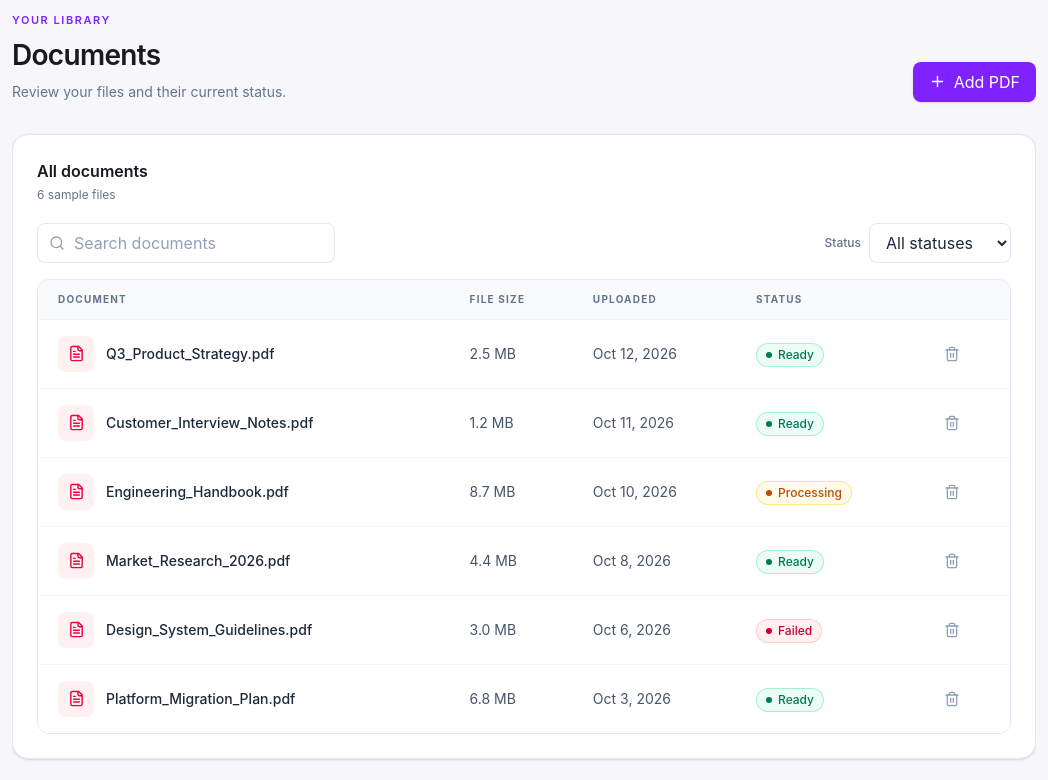
Scenario: DocumentList on DocumentsPage › exposes an accessible table and removal updates the visible list
expect the column heading "Document" is shown: met, box [38,280,454,319]
expect the column heading "File size" is shown: met, box [454,280,577,319]
Click the button named "Remove Q3_Product_Strategy.pdf from this session" at (952, 354), box [936,338,968,370]
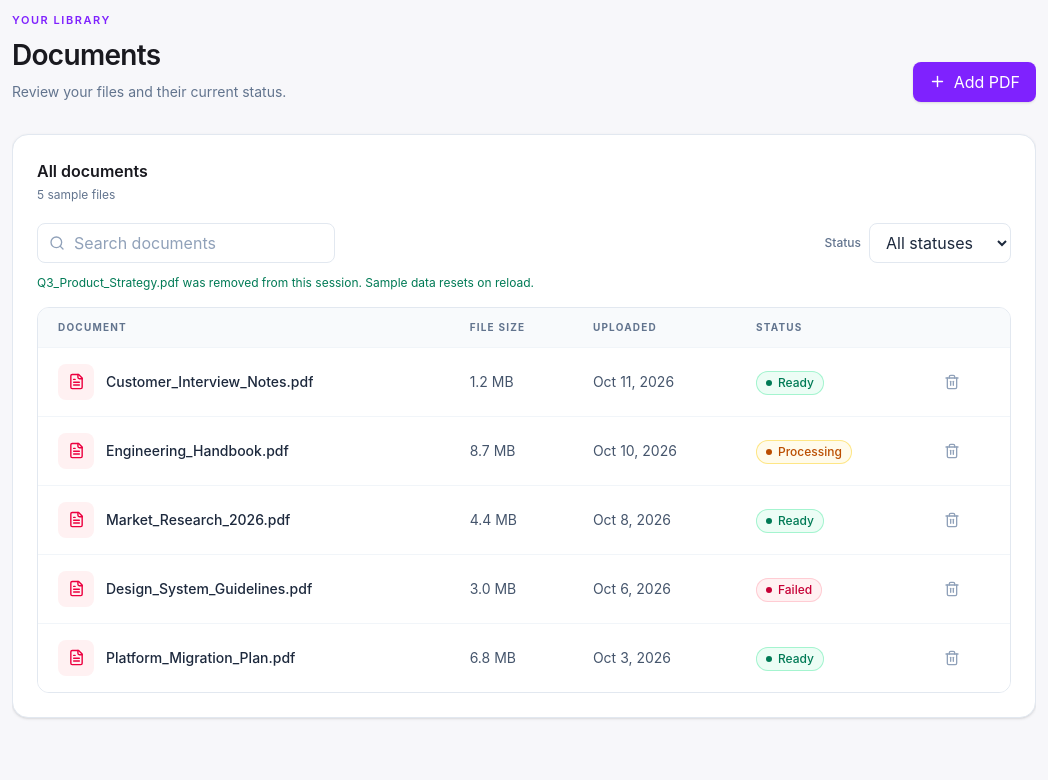
expect the message shows "removed from this session": met, box [37,275,534,290]
